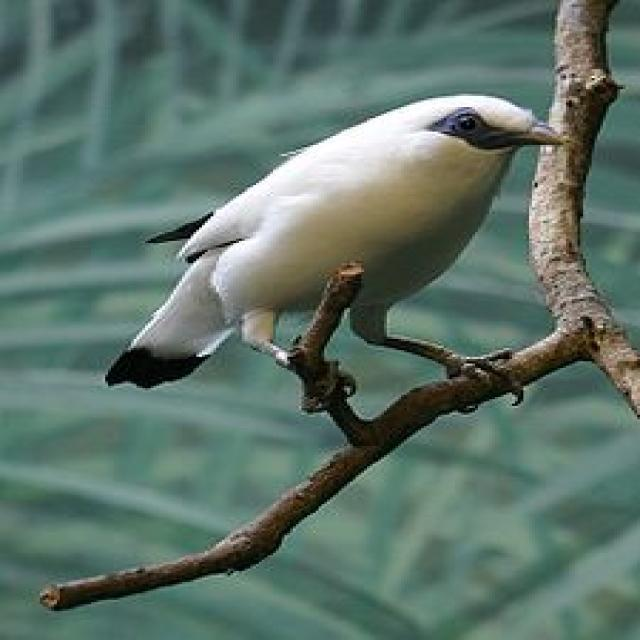Jalak Bali: (94, 80, 606, 441)
